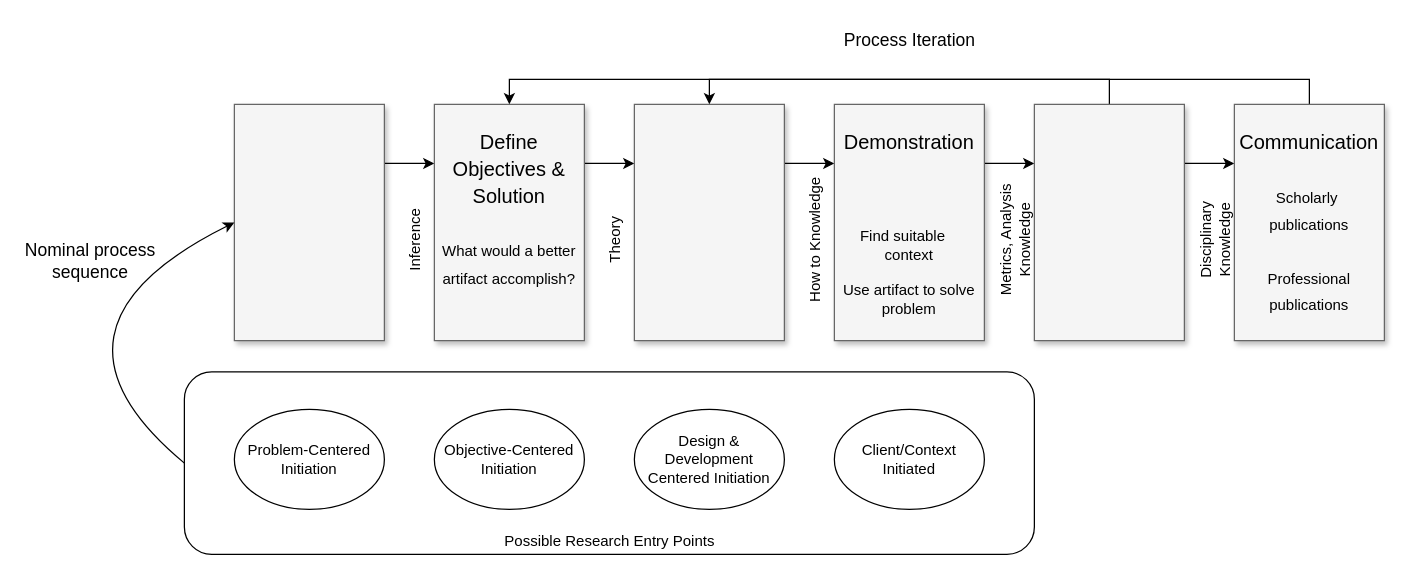
Some shapes in this 1414 by 581 pixel diagram are drawn without their labels. Each missing label, with the centre of its shape:
"Design & Development Artifact" belongs at point 710,223.
"Evaluation Observe how effective, efficient Iterate back to design" belongs at point 1110,223.
"Identify Problem & Motivate Define problem Show importance" belongs at point 310,223.
